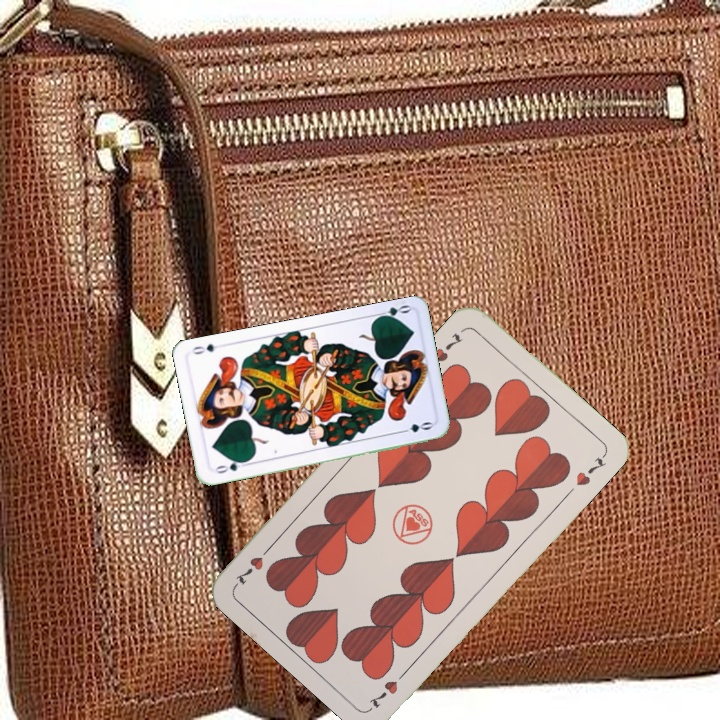GO: (372, 301, 412, 322), (211, 456, 250, 476)
H7: (365, 664, 412, 712), (430, 329, 466, 365)
